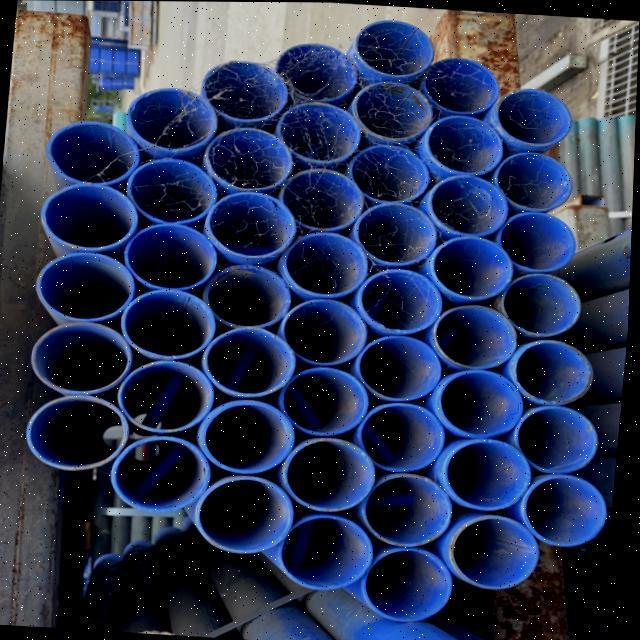pipe: (33, 318, 136, 402), (113, 435, 216, 517), (29, 394, 133, 475), (279, 512, 375, 598), (196, 474, 297, 555), (37, 247, 138, 322), (49, 115, 143, 194), (286, 435, 379, 513), (43, 181, 145, 251), (121, 286, 220, 358), (124, 218, 220, 291), (203, 398, 295, 474), (363, 545, 456, 620), (361, 391, 449, 470), (207, 188, 299, 263), (120, 362, 217, 433), (364, 468, 454, 542), (444, 435, 534, 508), (204, 327, 297, 397), (449, 510, 536, 583), (279, 167, 371, 236), (523, 474, 609, 547), (283, 363, 370, 435), (128, 85, 221, 152), (357, 266, 444, 337), (283, 296, 371, 366), (203, 260, 292, 327), (441, 366, 526, 436), (204, 124, 294, 190), (284, 231, 367, 302), (357, 335, 446, 401), (129, 156, 217, 222), (200, 58, 290, 122), (433, 228, 520, 293), (434, 303, 519, 369), (522, 404, 602, 473), (513, 336, 594, 404), (428, 170, 512, 234), (504, 270, 583, 338), (353, 204, 436, 268), (275, 102, 360, 163), (352, 80, 435, 142), (347, 141, 429, 203), (424, 111, 506, 173), (499, 210, 580, 272), (351, 19, 437, 77), (496, 146, 575, 209), (278, 41, 361, 100), (498, 86, 576, 146), (420, 55, 502, 112)
